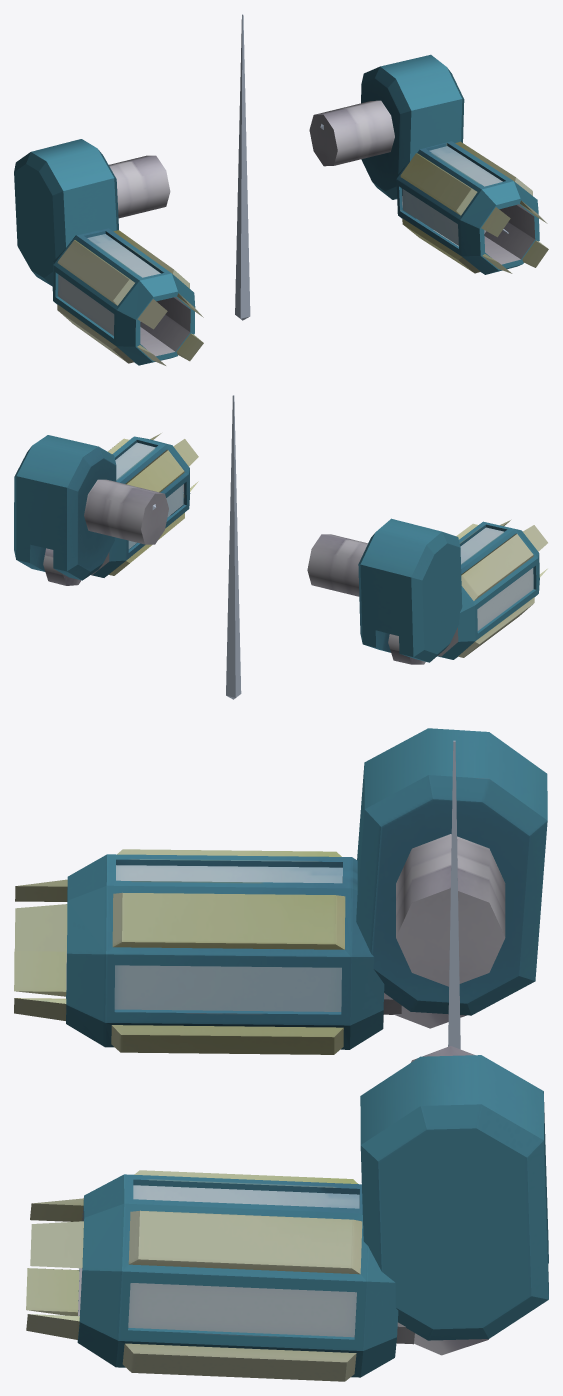
File: player_arm10.obj
3 views of the same model, one above another, from view 1: azimuth 30°, elevation 25°; view 2: azimuth 150°, elevation 25°; view 3: azimuth 270°, elevation 25° (orthographic). The views are drawn at different scales.
Visible parts, largest first — view 1: Object009, Object010, Object007, Object008, Object005, Object006, Bone001; view 2: Object007, Object008, Object009, Object010, Object005, Bone001, Object006; view 3: Object009, Object010, Object008, Object007, Object006, Bone001.
Part boxes in pixels (bbox=[...]): Object009: bbox=[52, 228, 203, 365]; Object010: bbox=[396, 141, 548, 274]; Object007: bbox=[14, 139, 118, 286]; Object008: bbox=[361, 54, 464, 199]; Object005: bbox=[309, 100, 394, 166]; Object006: bbox=[109, 155, 170, 218]; Bone001: bbox=[235, 14, 250, 320]; Object007: bbox=[358, 518, 462, 662]; Object008: bbox=[14, 435, 116, 580]; Object009: bbox=[388, 520, 547, 664]; Object010: bbox=[43, 433, 198, 585]; Object005: bbox=[84, 479, 168, 544]; Bone001: bbox=[226, 395, 241, 699]; Object006: bbox=[307, 534, 367, 596]; Object009: bbox=[14, 849, 466, 1054]; Object010: bbox=[26, 1170, 488, 1381]; Object008: bbox=[360, 1055, 548, 1340]; Object007: bbox=[356, 728, 547, 1015]; Object006: bbox=[396, 834, 505, 986]; Bone001: bbox=[448, 740, 460, 1049].
Bounding box in the file's own units: 175 × 120 × 98.39.
Materials: 2 (1 with a texture image).
